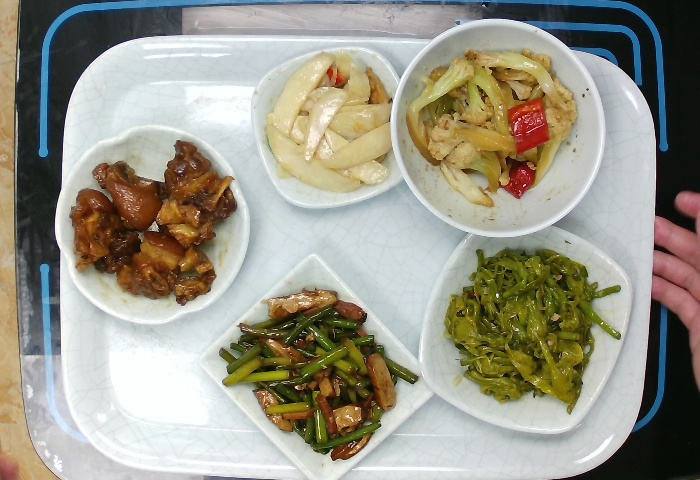JYsf-Ao_Yuan_Wan: (53, 123, 251, 328)
JYsf-Fan_Wan: (386, 16, 609, 241)
JYsf-Si_Fang_Die: (249, 44, 405, 211)
WCQzf-Da_Si_Fang_Die: (417, 223, 636, 438)
WCQzf-Ru_Ci_Si_Fang_Die: (198, 252, 437, 480)
